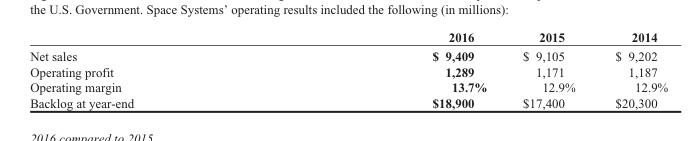table: (29, 29, 667, 109)
table column: (29, 29, 282, 109), (282, 29, 504, 109), (504, 29, 594, 109), (594, 29, 667, 109)
table column header: (29, 29, 667, 46)
table row: (29, 29, 667, 46), (29, 46, 667, 63), (29, 63, 667, 79), (29, 79, 667, 94), (29, 94, 667, 109)
